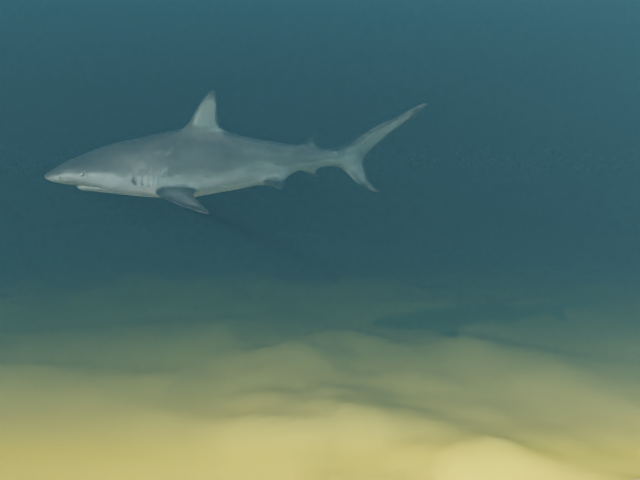Carribean Shark.001: (44, 89, 428, 214)
